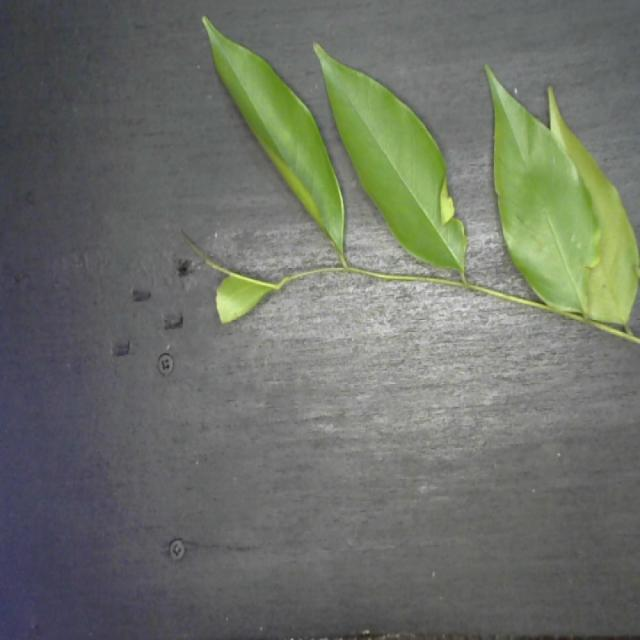biodegradable: (197, 12, 640, 348)
